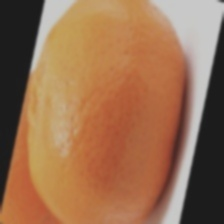orange: (0, 57, 200, 207)
